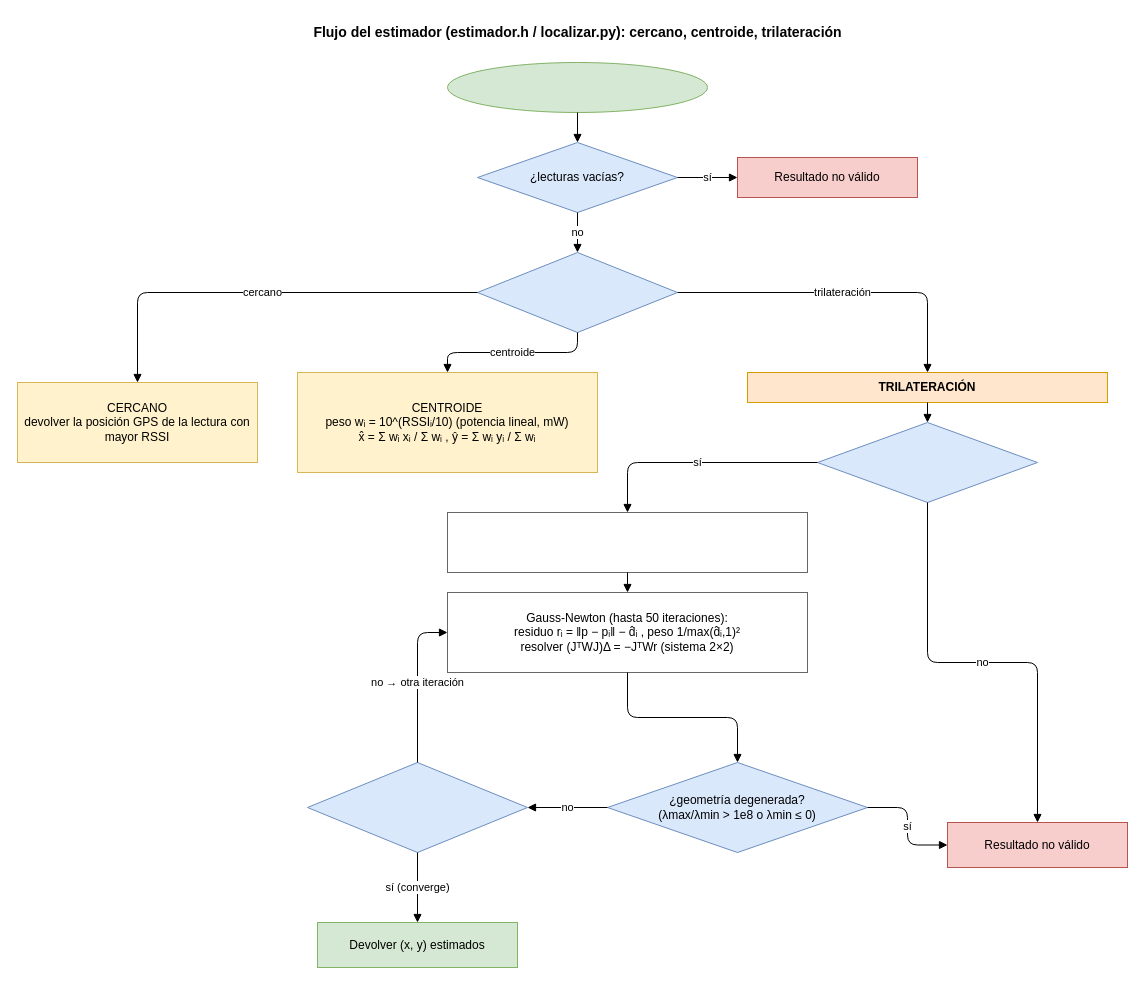
Some shapes in this 1145 by 985 pixel diagram are drawn without their labels. Each missing label, with the box of its shape:
Estimar(lecturas, método, p0, n): (446, 62, 708, 112)
Inicializar en el centroide ponderado Distancias d̂ᵢ = 10^((p0 − RSSIᵢ)/(10·n)): (446, 512, 808, 572)
¿método?: (476, 252, 678, 332)
¿‖Δ‖ < 1e-3 o iter = 50?: (306, 762, 528, 852)
¿≥ 3 observadores distintos?: (816, 422, 1038, 502)
